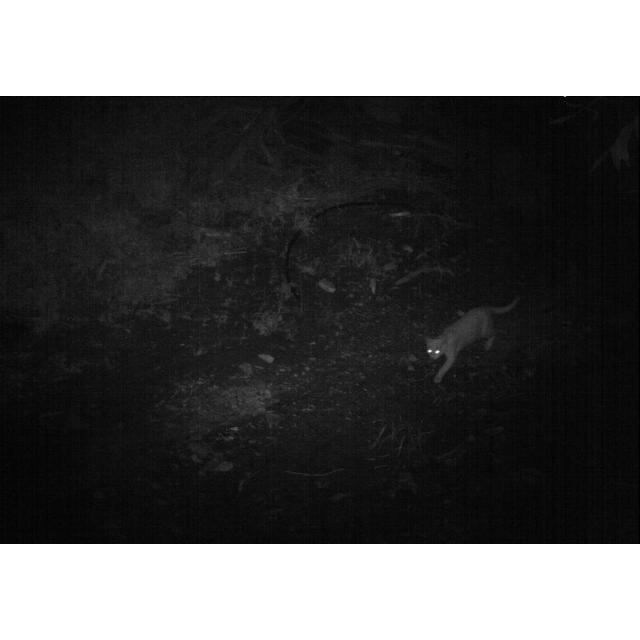animals: (419, 294, 525, 382)
